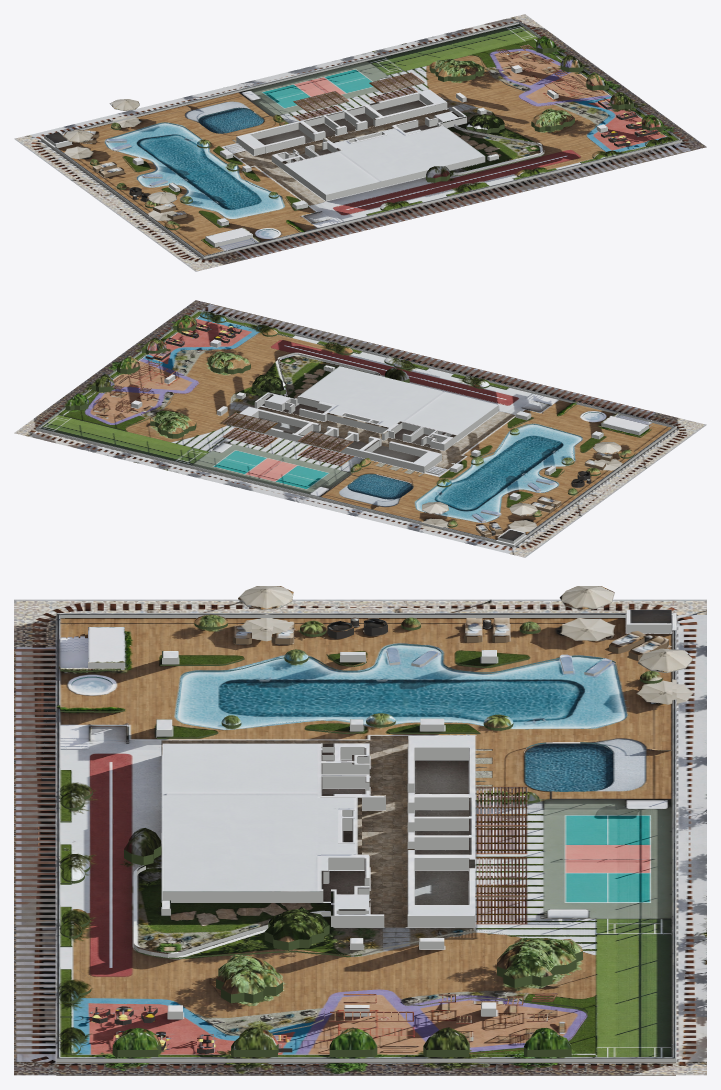
File: repose-terrace.glb
The picture shows the model from 3 angles, top to bottom: view 1: azimuth 30°, elevation 25°; view 2: azimuth 150°, elevation 25°; view 3: azimuth 270°, elevation 25°; orthographic projection. The views are drawn at different scales.
Parts seen in each view (by area): view 1: Perimeter_Reference_Surface, Deck_01_Surface, Core_Roof, Main_Pool_Water, Walkway_Surface, Deck_02_Surface, Core_Walls, Large_Visible_Crowns, Perimeter_Border, Sports_Court_Surface, Play_Area_Surface, Sports_Court_02_Surface (+20 smaller); view 2: Perimeter_Reference_Surface, Deck_01_Surface, Walkway_Surface, Core_Roof, Main_Pool_Water, Core_Walls, Deck_02_Surface, Sports_Court_Surface, Large_Visible_Crowns, Perimeter_Border, Play_Area_Surface, Sports_Court_02_Surface (+20 smaller); view 3: Perimeter_Reference_Surface, Deck_01_Surface, Core_Roof, Walkway_Surface, Main_Pool_Water, Deck_02_Surface, Core_Walls, Sports_Court_Surface, Large_Visible_Crowns, Sports_Court_02_Surface, Play_Area_Surface, Perimeter_Border (+27 smaller).
Part boxes in pixels (bbox=[...]): Perimeter_Reference_Surface: bbox=[14, 14, 706, 271]; Deck_01_Surface: bbox=[58, 92, 316, 255]; Core_Roof: bbox=[284, 126, 485, 200]; Main_Pool_Water: bbox=[105, 123, 285, 218]; Walkway_Surface: bbox=[222, 66, 647, 227]; Deck_02_Surface: bbox=[423, 48, 605, 172]; Core_Walls: bbox=[236, 89, 466, 170]; Large_Visible_Crowns: bbox=[426, 36, 664, 182]; Perimeter_Border: bbox=[40, 21, 682, 258]; Sports_Court_Surface: bbox=[239, 61, 389, 116]; Play_Area_Surface: bbox=[489, 49, 606, 105]; Sports_Court_02_Surface: bbox=[368, 24, 537, 75]; Perimeter_Reference_Surface: bbox=[14, 300, 706, 557]; Deck_01_Surface: bbox=[320, 400, 671, 539]; Walkway_Surface: bbox=[174, 319, 558, 476]; Core_Roof: bbox=[299, 366, 498, 441]; Main_Pool_Water: bbox=[416, 424, 582, 522]; Core_Walls: bbox=[232, 392, 456, 472]; Deck_02_Surface: bbox=[81, 332, 289, 442]; Sports_Court_Surface: bbox=[192, 442, 351, 496]; Large_Visible_Crowns: bbox=[65, 314, 409, 438]; Perimeter_Border: bbox=[35, 309, 676, 546]; Play_Area_Surface: bbox=[85, 364, 197, 425]; Sports_Court_02_Surface: bbox=[40, 415, 209, 465]; Perimeter_Reference_Surface: bbox=[14, 599, 706, 1075]; Deck_01_Surface: bbox=[60, 618, 672, 799]; Core_Roof: bbox=[162, 743, 355, 902]; Walkway_Surface: bbox=[60, 724, 595, 1030]; Main_Pool_Water: bbox=[176, 645, 626, 729]; Deck_02_Surface: bbox=[77, 877, 595, 1054]; Core_Walls: bbox=[319, 736, 475, 927]; Sports_Court_Surface: bbox=[544, 799, 672, 918]; Large_Visible_Crowns: bbox=[112, 828, 582, 1056]; Sports_Court_02_Surface: bbox=[595, 918, 671, 1056]; Play_Area_Surface: bbox=[316, 989, 586, 1054]; Perimeter_Border: bbox=[56, 613, 676, 1061].
Bounding box in the file's own units: 47.94 × 2.57 × 29.52.
67 materials, 58 textured.
